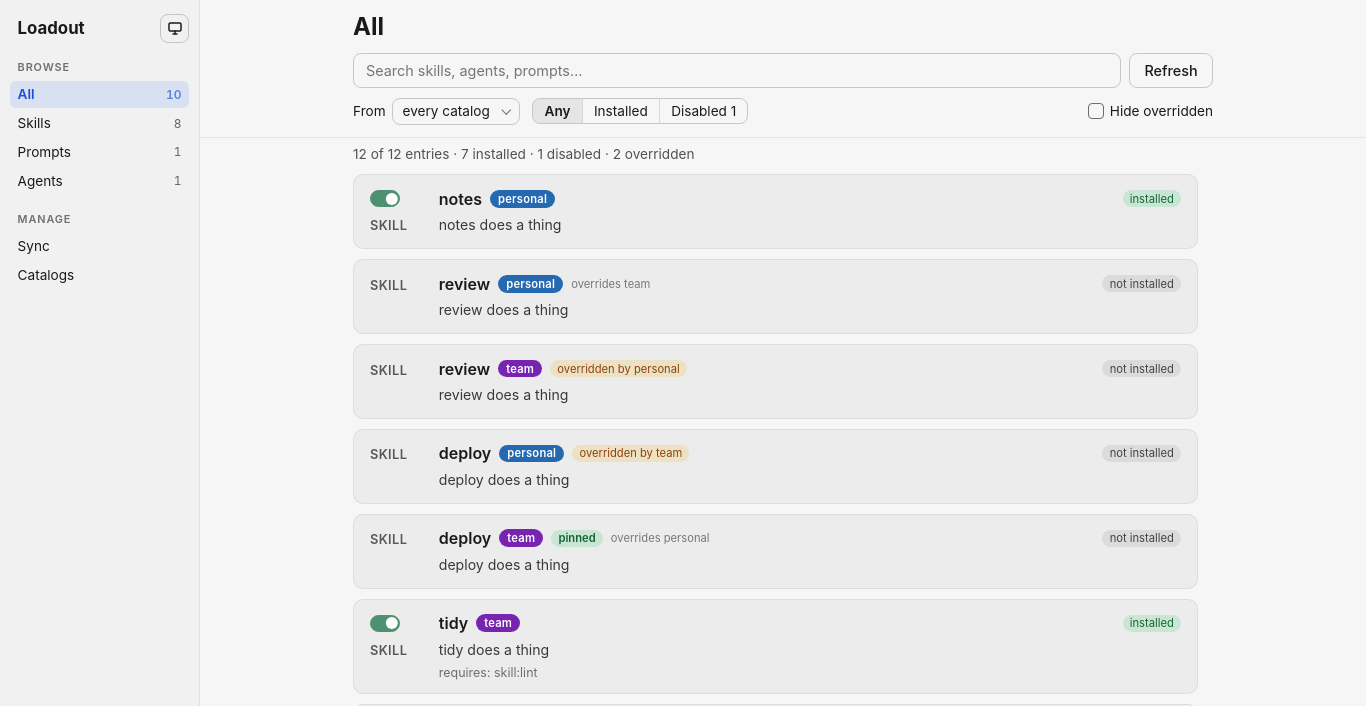
Scenario: UI-10: the list header and the sidebar › browses by type with a count of names for each, and the title follows
Expected: the button "All 10" is shown, [10,81,189,108]
Step 1. Click the button with class "sidebar__item" showing "Prompts 1" → (100, 152), box [10,138,189,166]
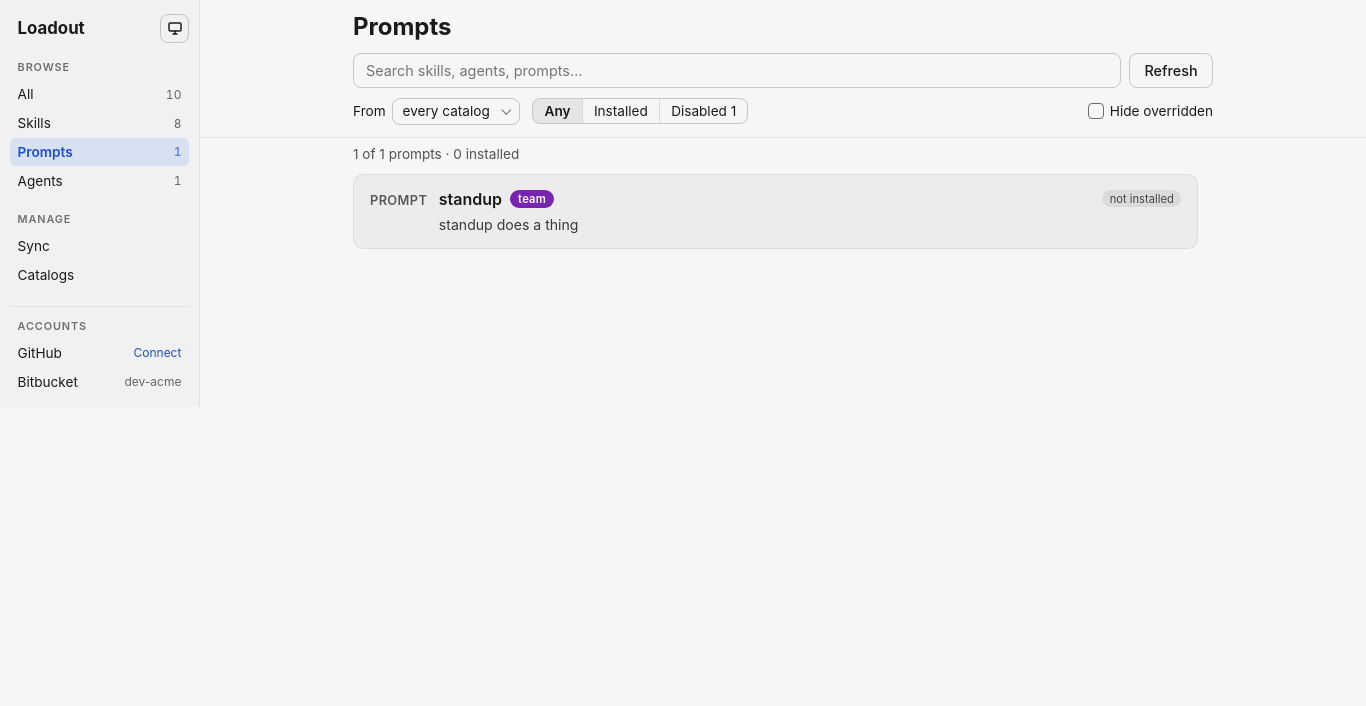
Result: the heading "Prompts" is shown at [353,12,452,41]
Result: the text with class "summary" shows "1 of 1 prompts" at [353,146,519,162]
